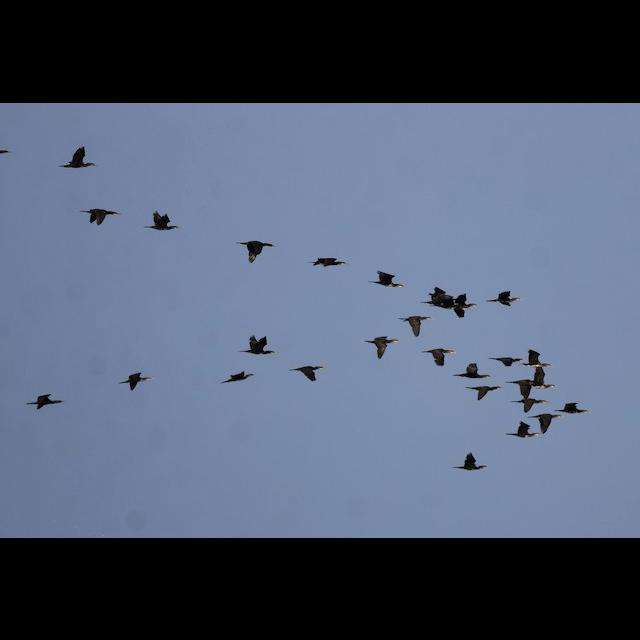cormorant: (58, 144, 100, 170), (238, 332, 280, 358), (364, 332, 401, 360), (141, 208, 181, 232), (116, 368, 154, 392), (402, 310, 434, 338), (286, 361, 326, 383), (78, 205, 122, 225), (451, 448, 487, 472), (366, 268, 404, 288), (421, 344, 455, 366), (451, 362, 493, 378), (464, 384, 502, 401)
